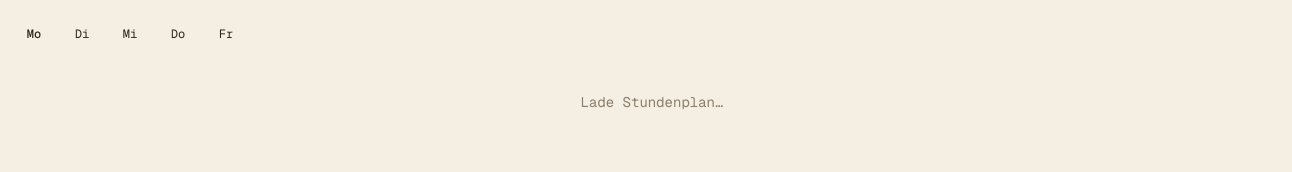
Test: ScheduleWidget › wechselt den Tag wenn man auf einen anderen Button klickt
The width and height of the screenshot is (1292, 172).
Click the button "Di": (82, 34) [60,12,104,56]
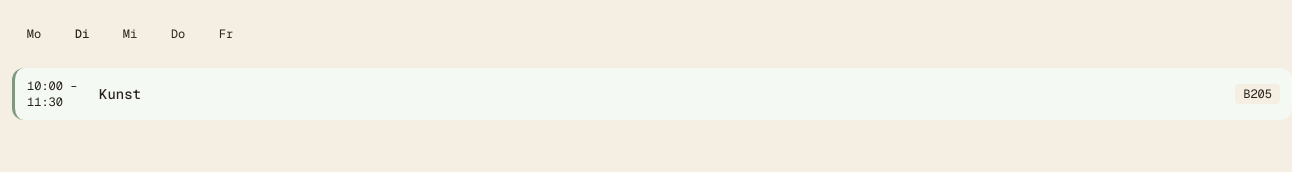
Expected: the text "Kunst" is shown, [99,85,141,103]
Expected: the text "B205" is shown, [1235,84,1280,104]
